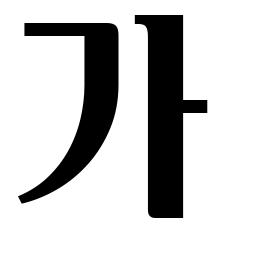Gaji: (136, 84, 199, 131)
